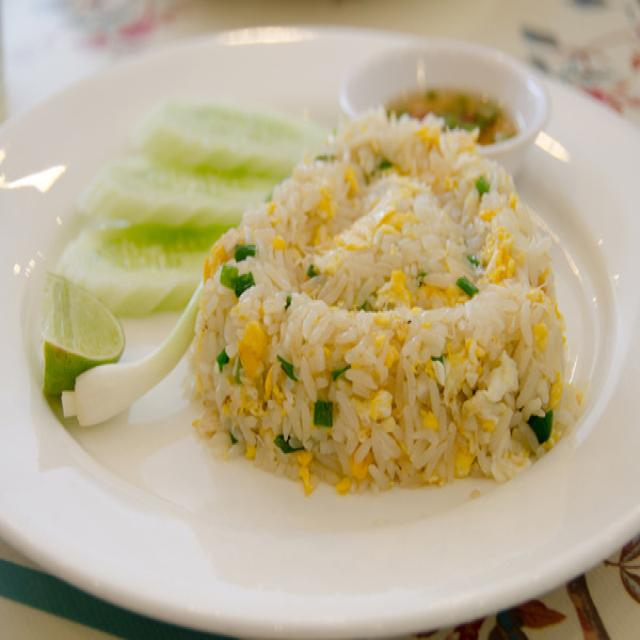carb: (272, 188, 553, 468)
fried rice: (182, 122, 609, 520)
vegetable: (155, 137, 220, 280), (228, 242, 259, 305), (528, 413, 556, 452), (452, 276, 482, 303), (311, 405, 340, 431)
